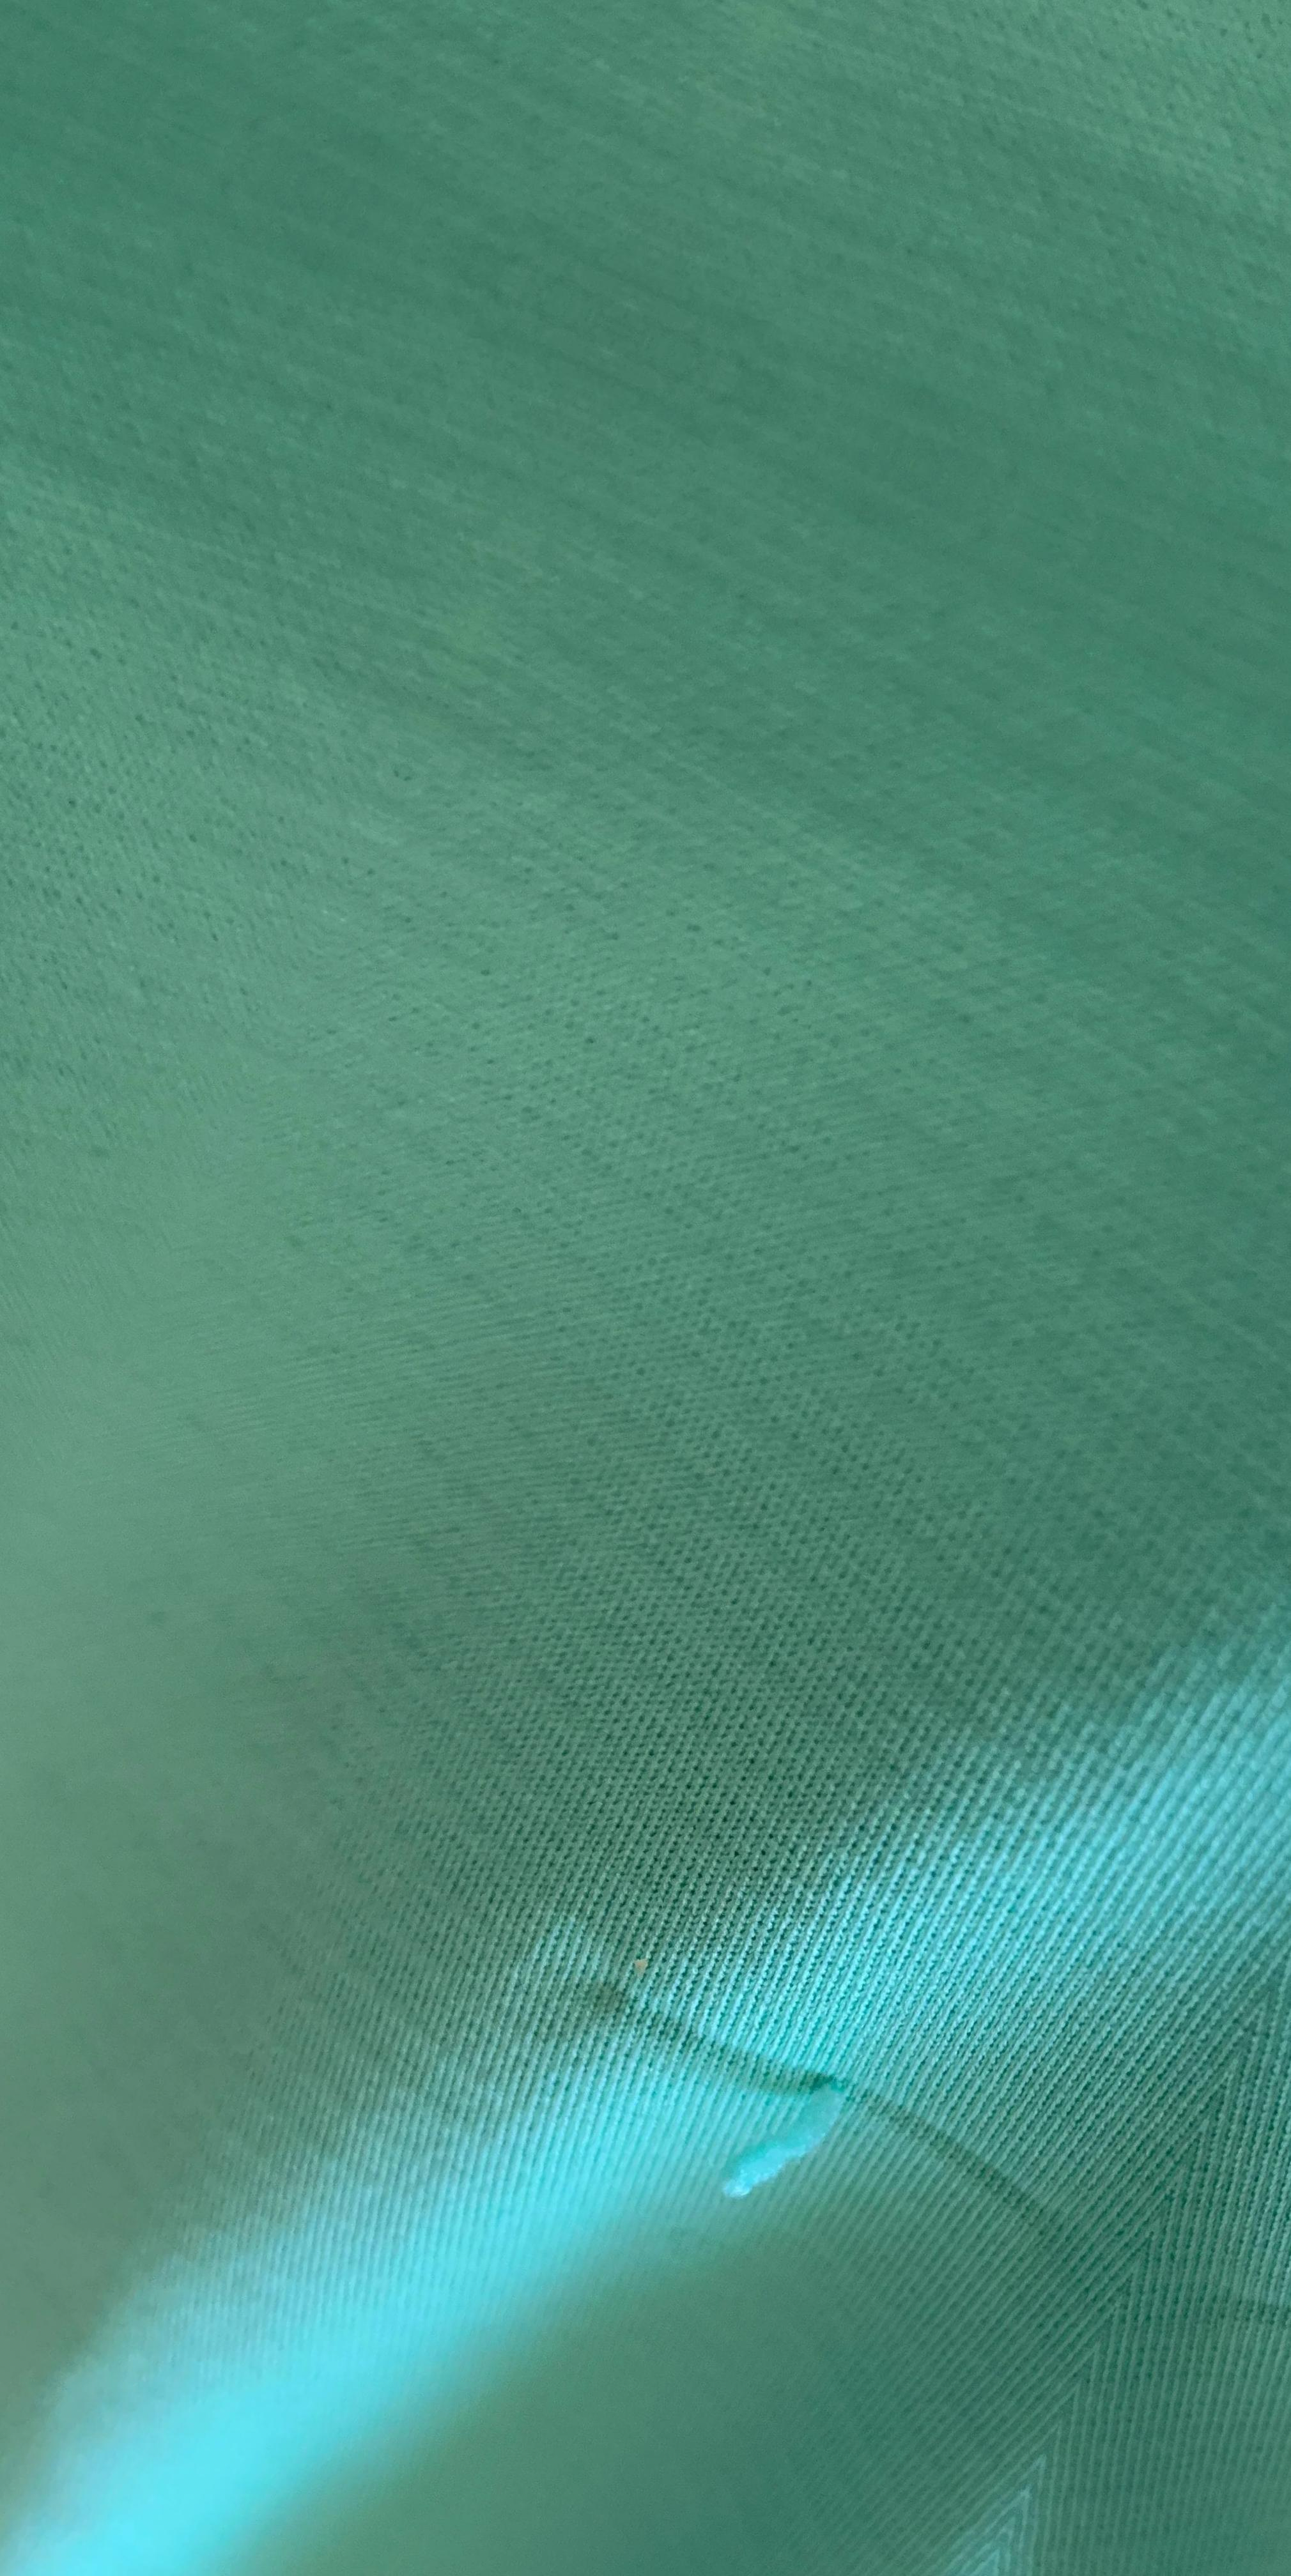snag: (670, 2016, 945, 2291)
